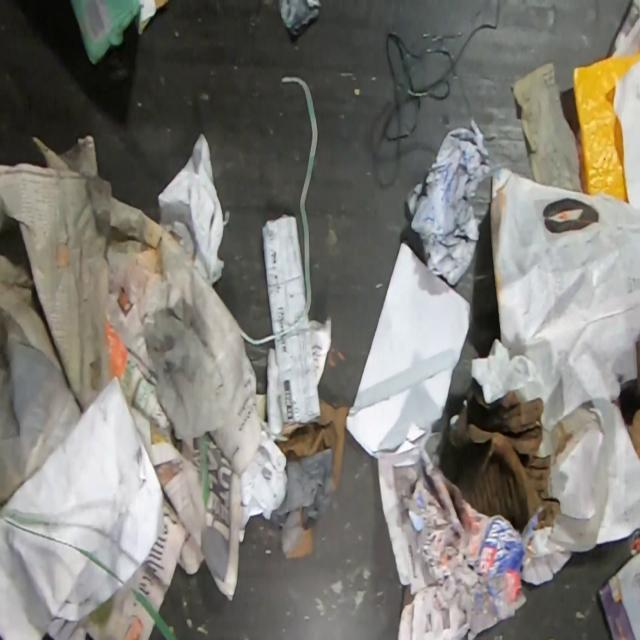cardboard: (439, 380, 560, 536)
